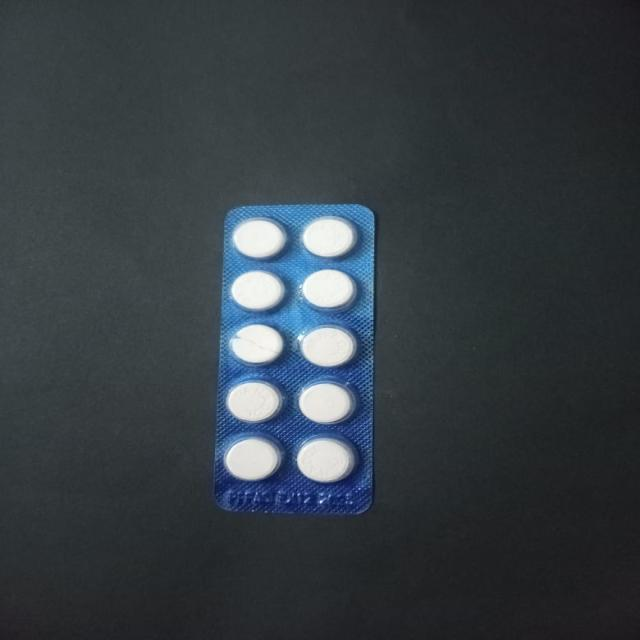defect: (226, 323, 287, 369)
